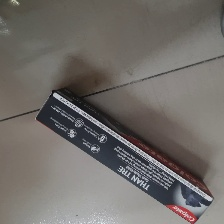Colgate Than: (32, 88, 214, 224)
